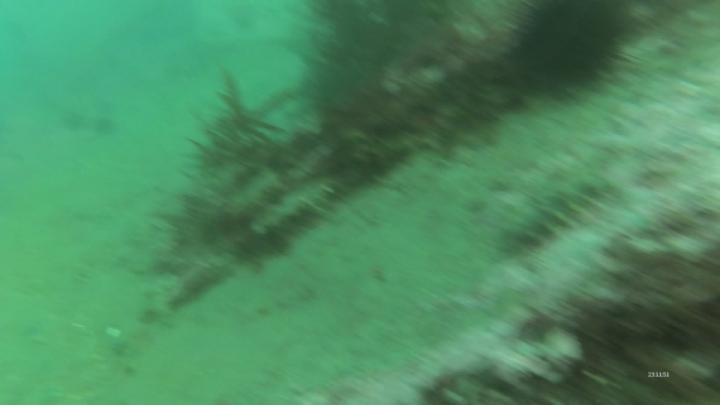holothurian: (490, 170, 614, 253)
